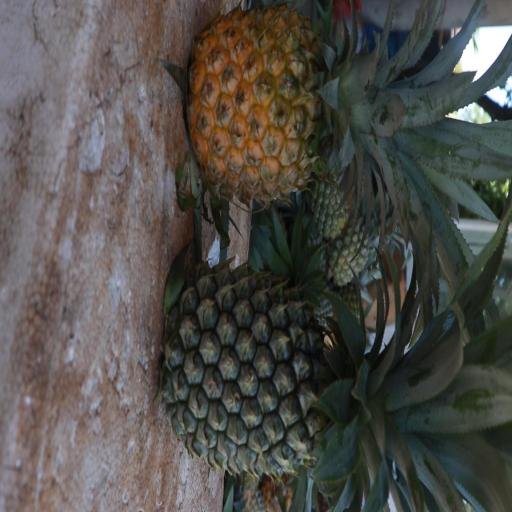Pineapple - v8 v1: (192, 11, 479, 199)
